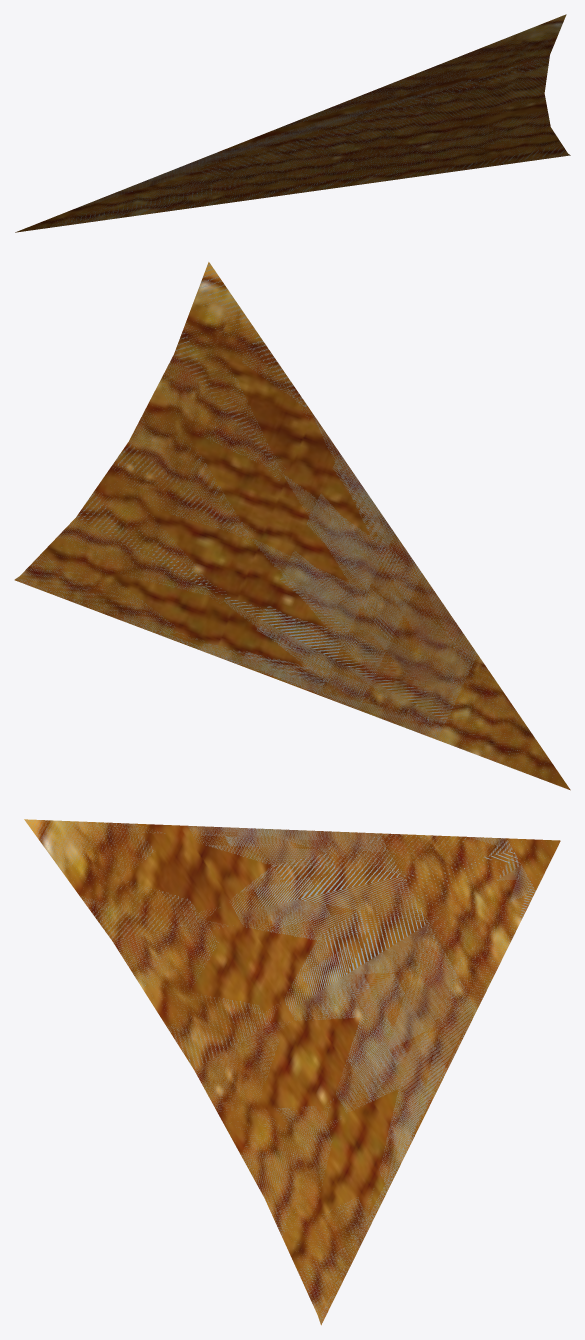
Rendered from 西庸城堡280.dae.
3 renders of one model, top to bottom at view 1: azimuth 30°, elevation 25°; view 2: azimuth 150°, elevation 25°; view 3: azimuth 270°, elevation 25°, orthographic. The views are drawn at different scales.
Parts seen in each view (by area): view 1: SketchUp; view 2: SketchUp; view 3: SketchUp.
Part boxes in pixels (box(x1,y1,x2,y2)): SketchUp: box(15, 14, 570, 232); SketchUp: box(14, 262, 570, 790); SketchUp: box(24, 819, 560, 1325).
Size of the model in its own units: 143 by 66.89 by 59.06.
